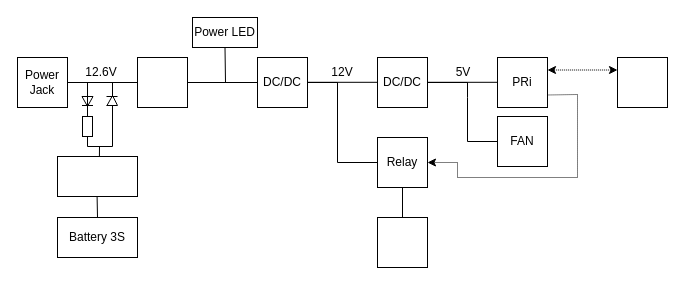
The diagram is 685 pixels wide and 285 high, and some of its shapes have lost their labels. Here are the shapes that lost their labels. From the top down, the centre of each, then its label:
pixel 162 82: Switch
pixel 642 82: Sensors
pixel 97 176: Battery Balancer
pixel 402 242: LEDs
